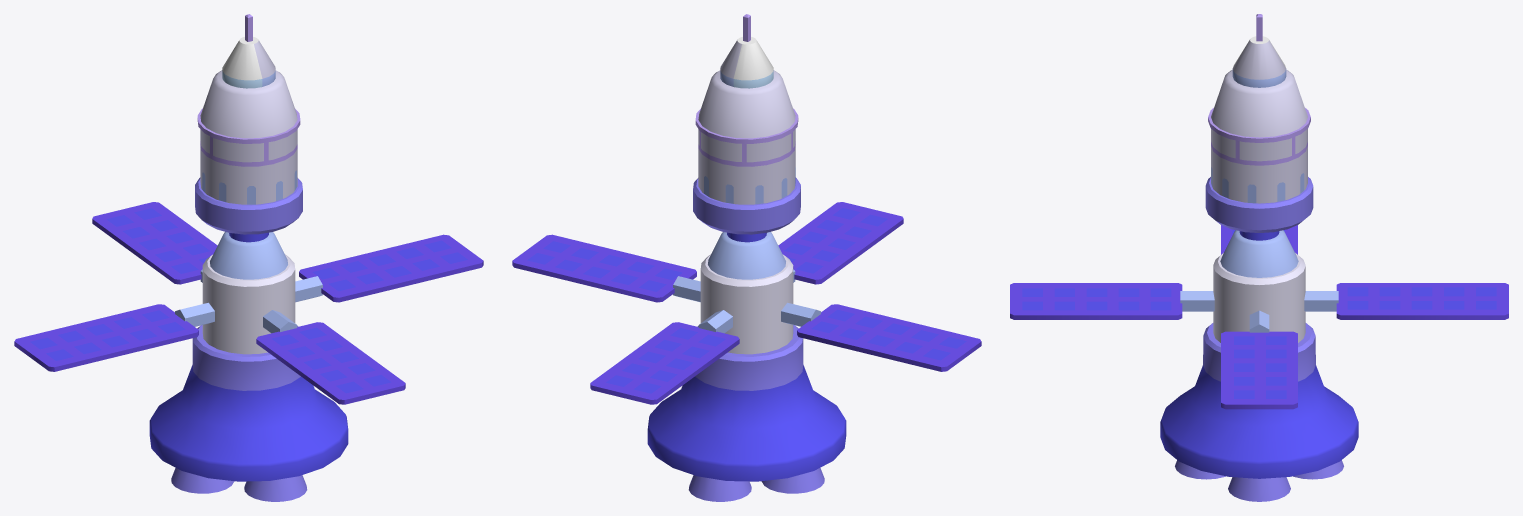
The model's file is Aircraft_036.fbx.
3 views of the same model, side by side, from view 1: azimuth 30°, elevation 25°; view 2: azimuth 150°, elevation 25°; view 3: azimuth 270°, elevation 25° (orthographic).
Visible parts, largest first — view 1: Aircraft_036_hard; view 2: Aircraft_036_hard; view 3: Aircraft_036_hard.
Part boxes in pixels (x1,y1,x2,y2): Aircraft_036_hard: (14,14,483,501); Aircraft_036_hard: (512,14,981,501); Aircraft_036_hard: (1010,14,1508,501).
Bounding box in the file's own units: 18.61 × 18.58 × 18.61.
